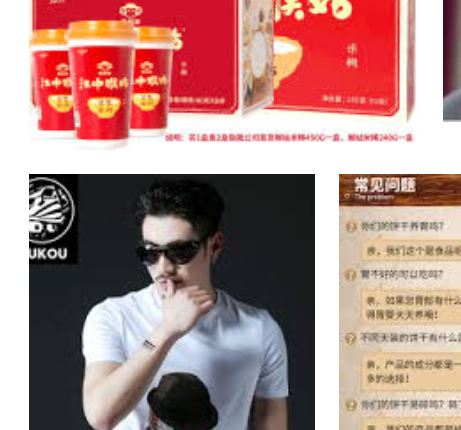box: (32, 1, 246, 114), (259, 1, 404, 111)
cup: (67, 21, 135, 147), (31, 29, 74, 136), (132, 27, 172, 132)
